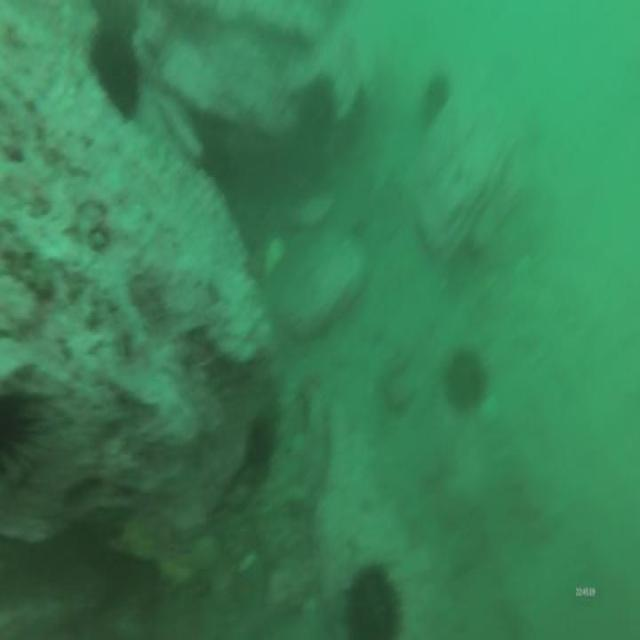echinus: (1, 390, 47, 504), (86, 35, 142, 125), (341, 558, 400, 640), (442, 340, 492, 417), (292, 74, 338, 155), (242, 410, 281, 472), (92, 0, 143, 41), (421, 70, 452, 130)
